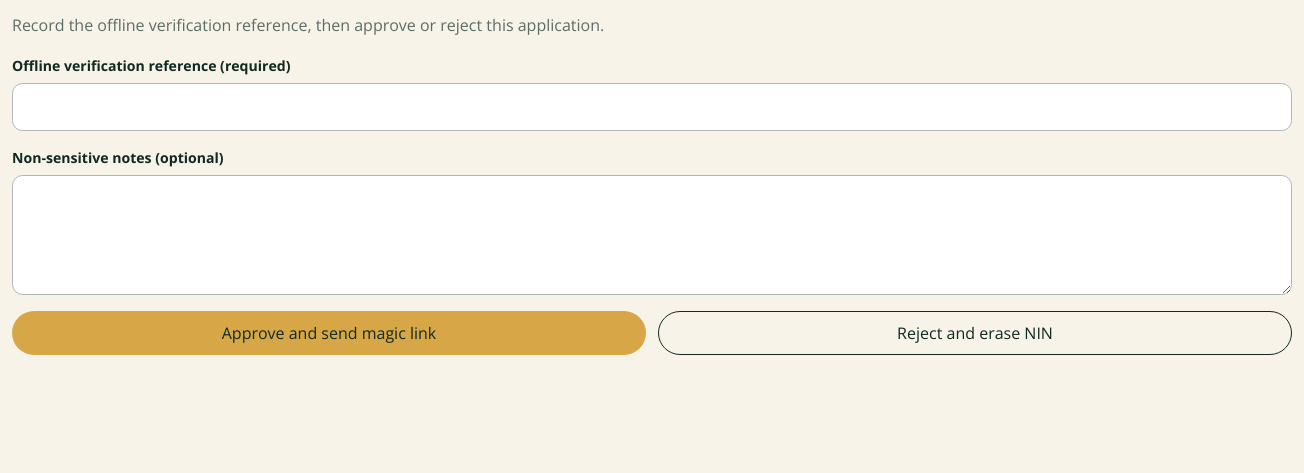
Test case: application review › submits Approve with the shared verification fields
The width and height of the screenshot is (1304, 473).
Type "KYC-123" into the field labelled "Offline verification reference (required)" at point(652, 107), box [12,83,1292,131]
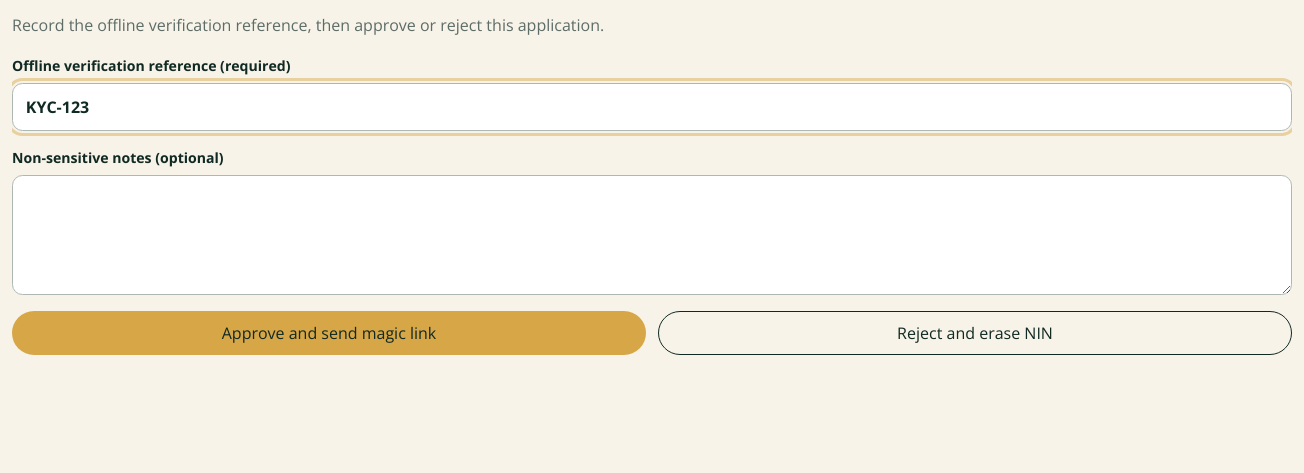
Type "Review complete" into the text box labelled "Non-sensitive notes (optional)" at point(652, 235), box [12,175,1292,295]
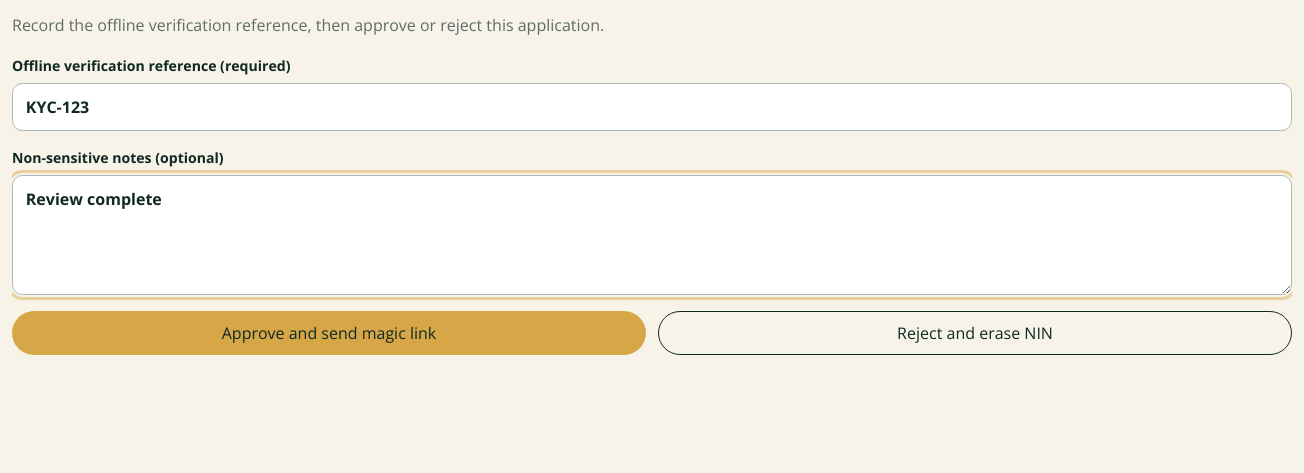
Click the button "Approve and send magic link" at point(329, 333), box [12,311,646,355]
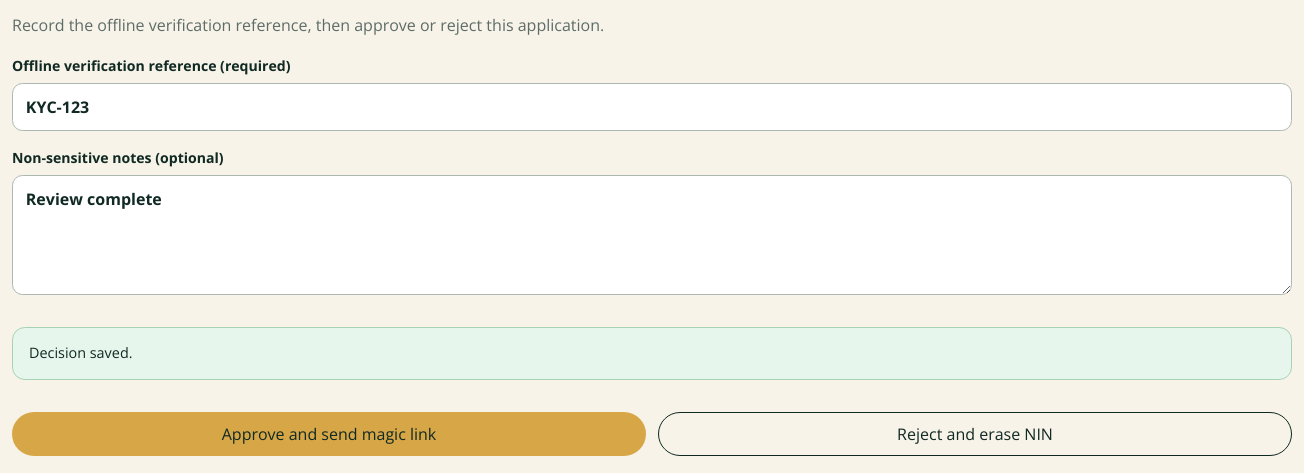
expect the message reads "Decision saved.": met, box [29,343,132,362]
